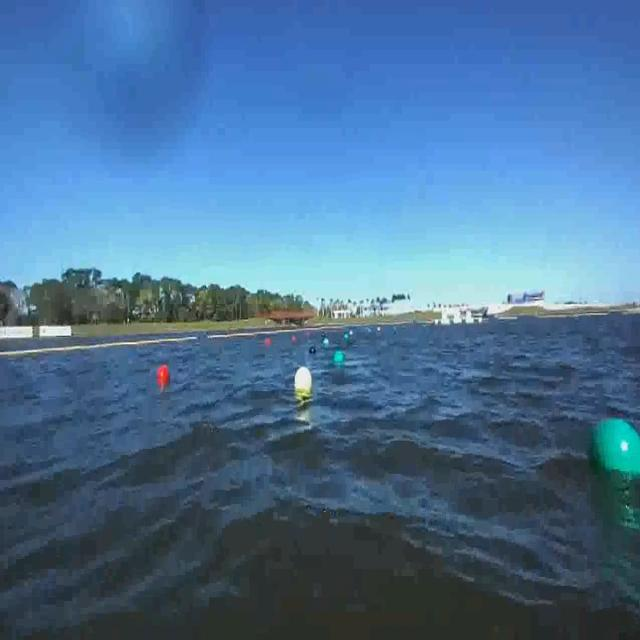black-buoy: (308, 343, 316, 359)
green-buoy: (584, 413, 640, 489), (335, 350, 346, 364)
red-buoy: (157, 364, 169, 386)
yellow-buoy: (296, 366, 313, 396)
